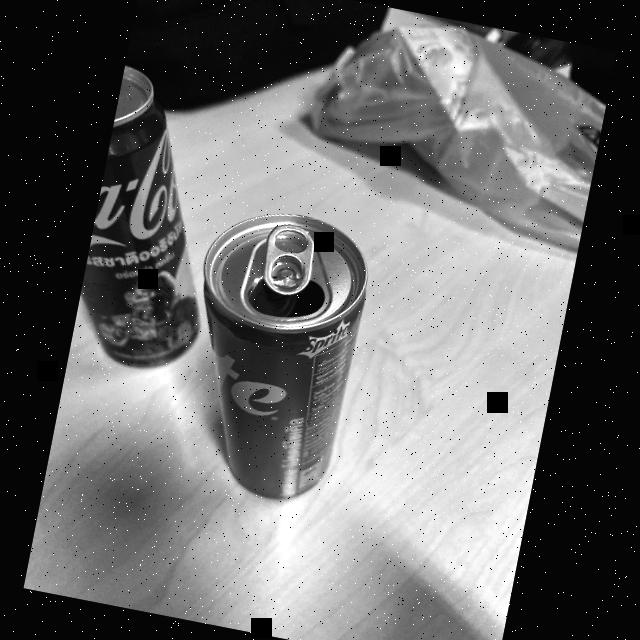can: (159, 186, 392, 514), (68, 61, 246, 386)
